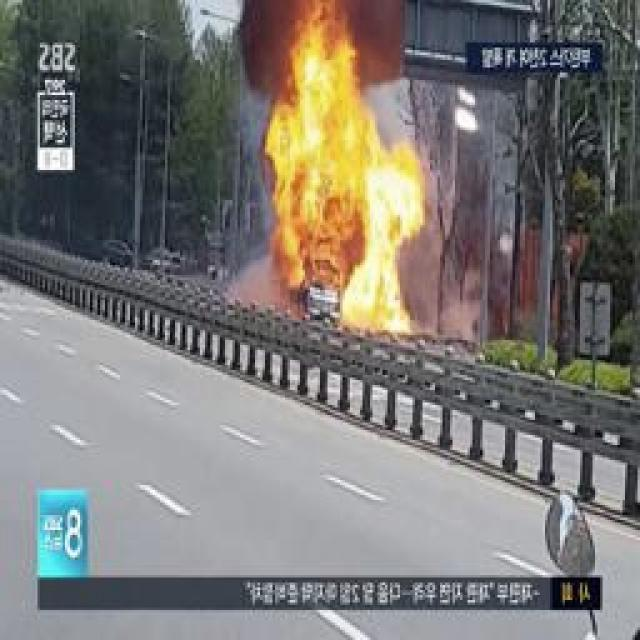Fire: (274, 127, 421, 330), (285, 25, 365, 116)
